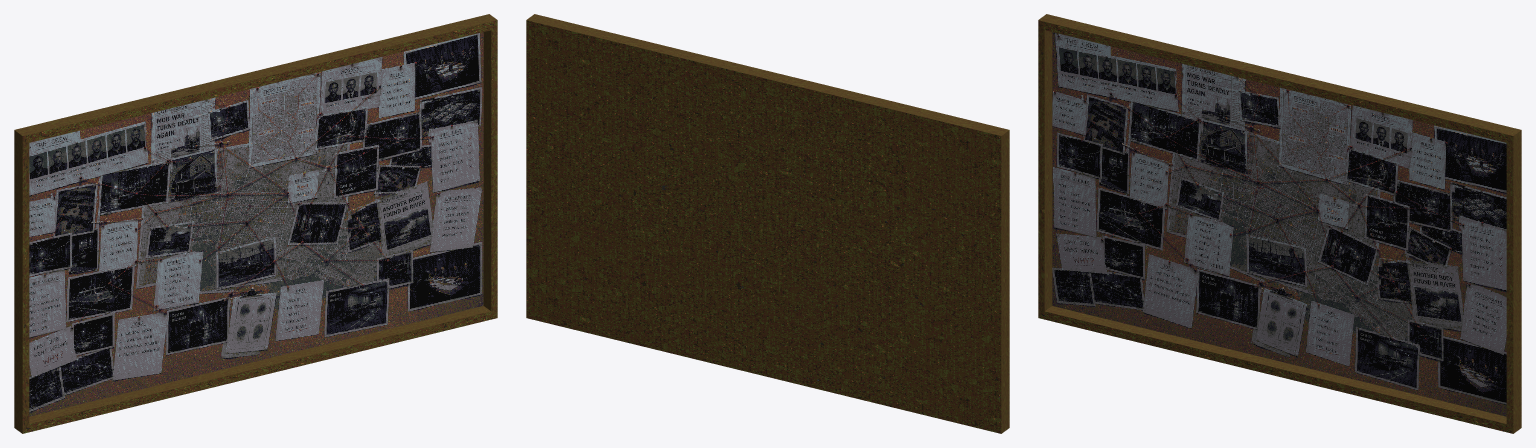
File: psx Cork board for kasujin.fbx
The picture shows the model from 3 angles, left to right: view 1: azimuth 30°, elevation 25°; view 2: azimuth 150°, elevation 25°; view 3: azimuth 330°, elevation 25°; orthographic projection.
Visible parts, largest first — view 1: polySurface113; view 2: polySurface113; view 3: polySurface113.
Part boxes in pixels (x1=…): polySurface113: x1=14, y1=14, x2=497, y2=433; polySurface113: x1=526, y1=14, x2=1009, y2=433; polySurface113: x1=1038, y1=14, x2=1521, y2=433.
Bounding box in the file's own units: 9.46 × 5.67 × 0.2939.
2 materials, 2 textured.
